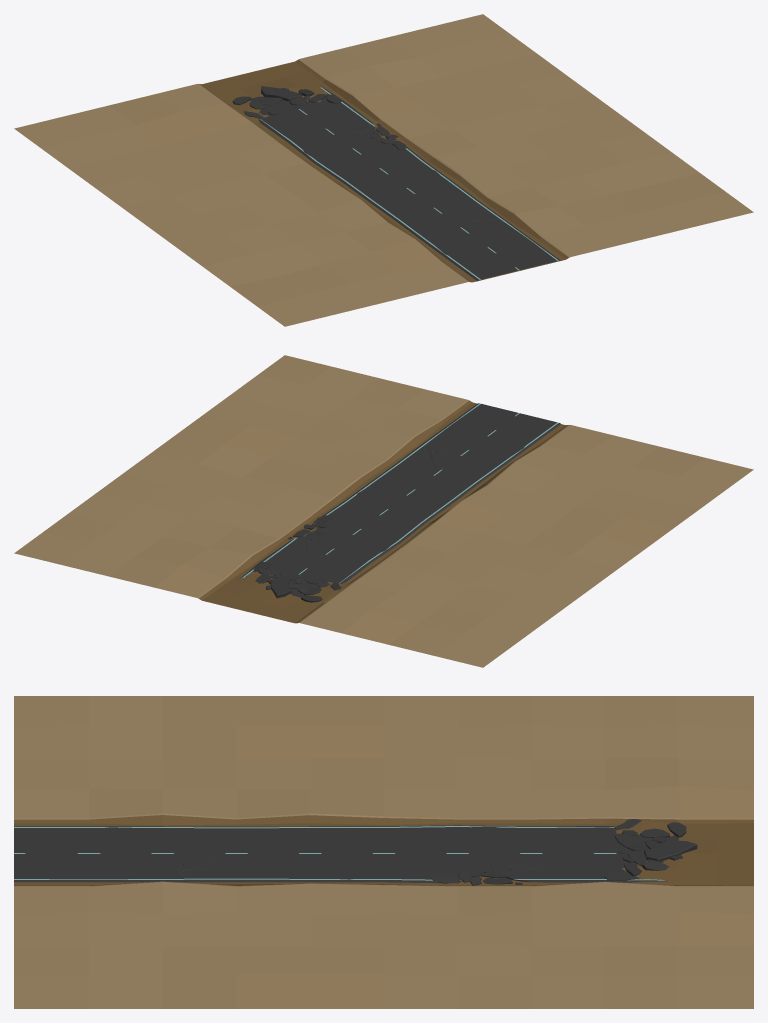
Rendered from model_road_dirt_straight_03.fbx.
The picture shows the model from 3 angles, top to bottom: view 1: azimuth 30°, elevation 25°; view 2: azimuth 150°, elevation 25°; view 3: azimuth 270°, elevation 25°; orthographic projection. The views are drawn at different scales.
Parts seen in each view (by area): view 1: model_road_dirt_straight_03; view 2: model_road_dirt_straight_03; view 3: model_road_dirt_straight_03.
Part boxes in pixels (left/top/right/bottom): model_road_dirt_straight_03: left=14, top=14, right=753, bottom=326; model_road_dirt_straight_03: left=14, top=355, right=753, bottom=667; model_road_dirt_straight_03: left=14, top=696, right=753, bottom=1008.
Bounding box in the file's own units: 6161 × 72.76 × 6161.
Materials: 1 (1 with a texture image).
